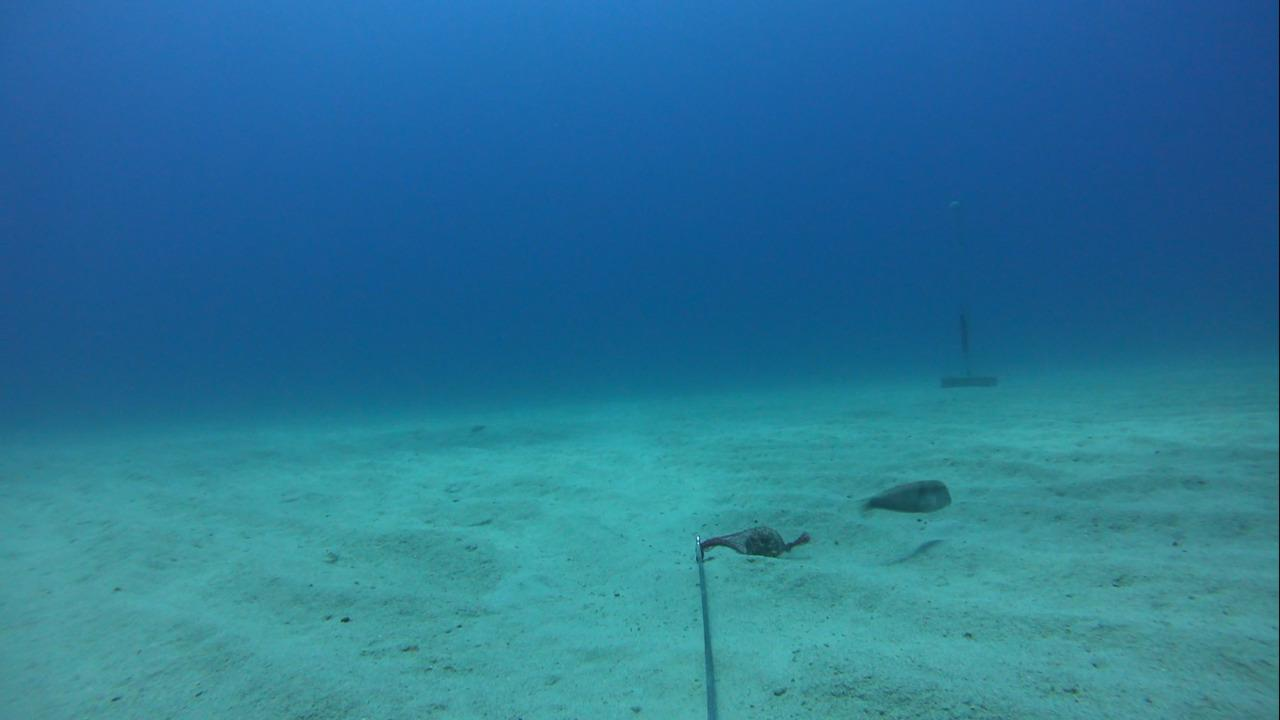raor: (851, 471, 962, 528)
